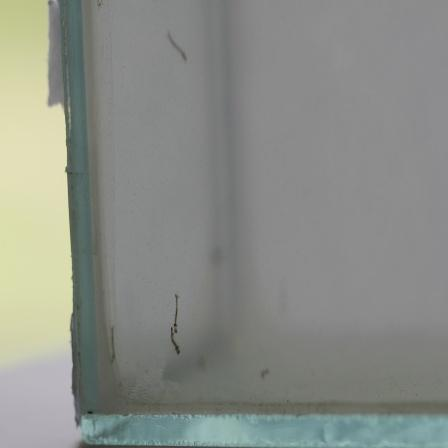Jentik-Nyamuk: (164, 288, 185, 359)
